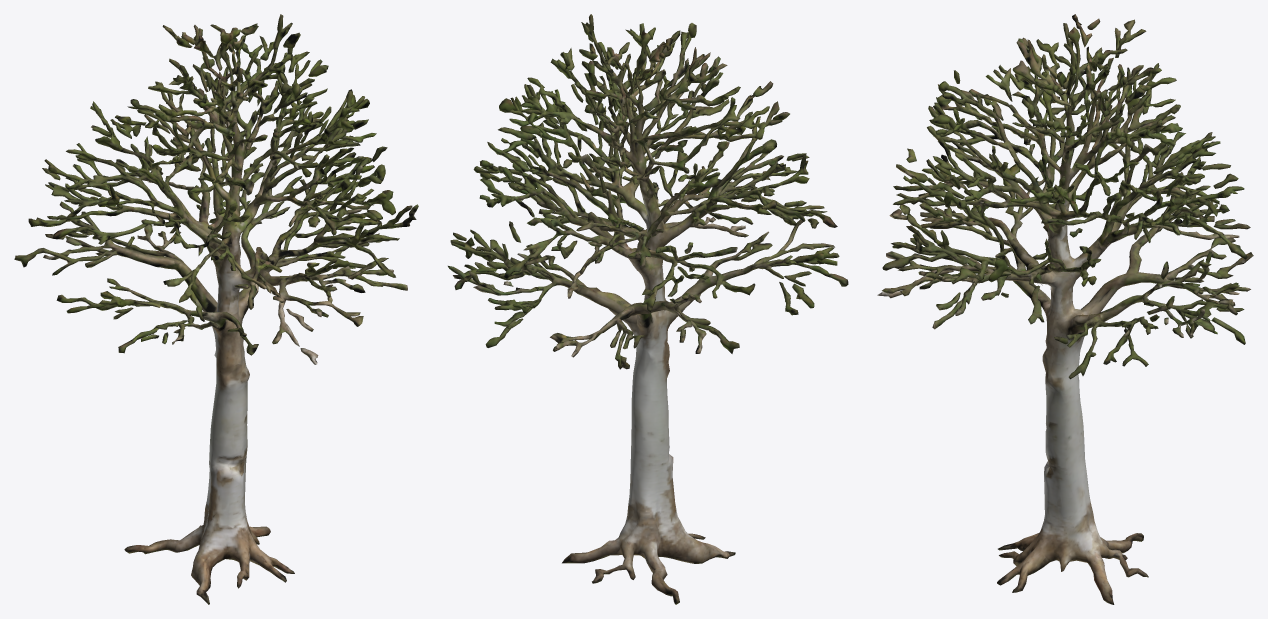
Rendered from AI_Sycamore04.fbx.
The picture shows the model from 3 angles, left to right: view 1: azimuth 30°, elevation 25°; view 2: azimuth 150°, elevation 25°; view 3: azimuth 270°, elevation 25°; orthographic projection. The views are drawn at different scales.
Parts seen in each view (by area): view 1: Mesh1.0; view 2: Mesh1.0; view 3: Mesh1.0.
Part boxes in pixels (x1,y1,x2,y2): Mesh1.0: (14,14,418,604); Mesh1.0: (448,14,848,604); Mesh1.0: (877,14,1253,604).
Size of the model in its own units: 138 by 201 by 124.
1 material, 1 textured.
